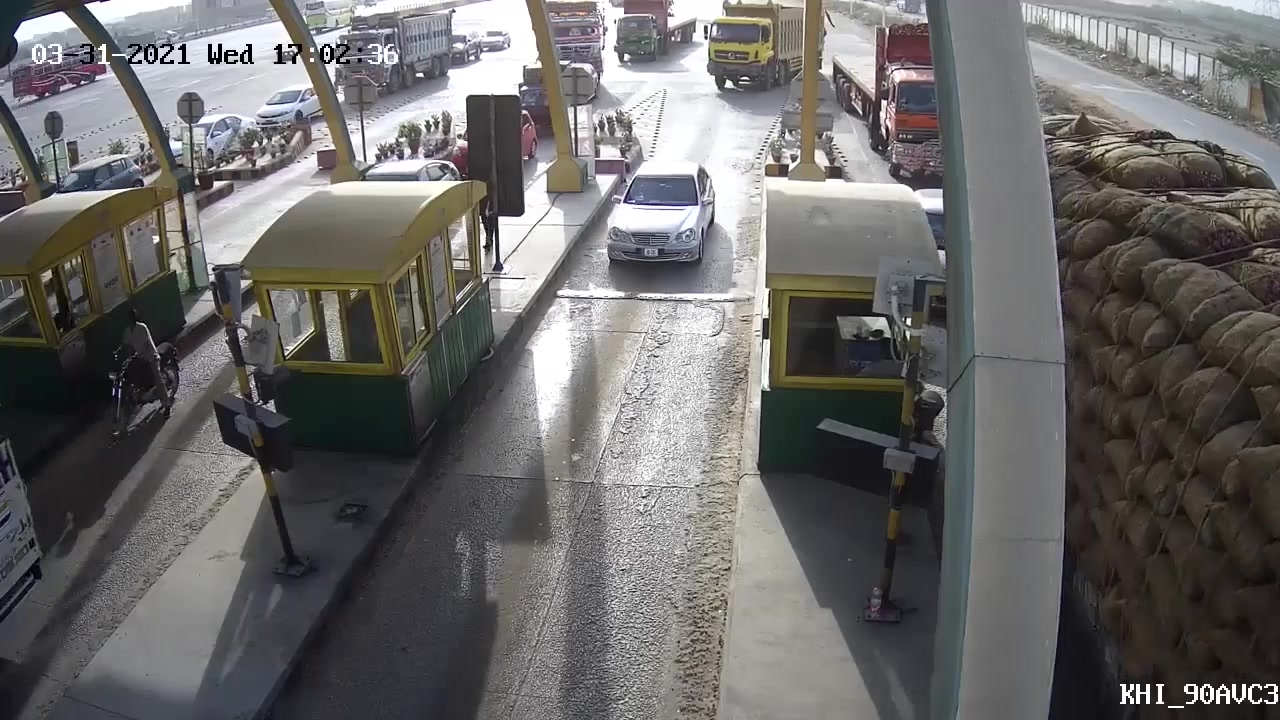F1: (595, 159, 718, 269)
